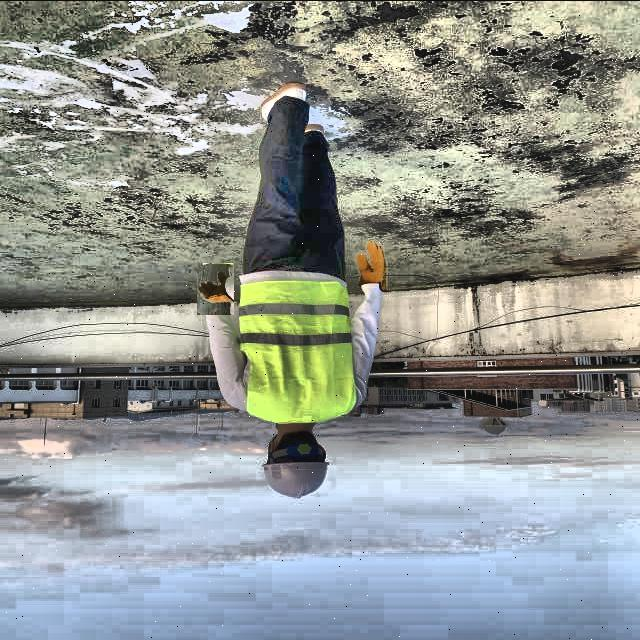gloved: (192, 266, 238, 310), (353, 239, 393, 288)
